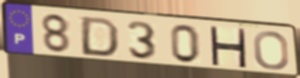0: (168, 23, 202, 65)
3: (125, 20, 159, 61)
8: (40, 12, 74, 55)
D: (78, 15, 121, 59)
H: (207, 25, 248, 70)
O: (252, 30, 291, 71)
